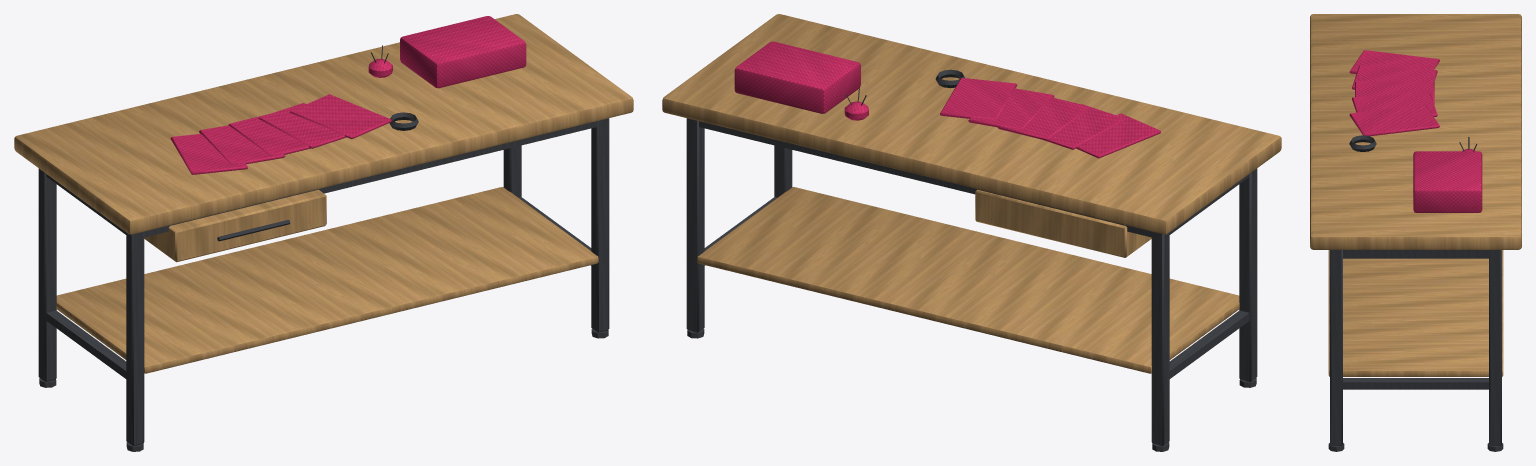
Rendered from bancada-20.glb.
The picture shows the model from 3 angles, left to right: view 1: azimuth 30°, elevation 25°; view 2: azimuth 150°, elevation 25°; view 3: azimuth 270°, elevation 25°; orthographic projection. The views are drawn at different scales.
Visible parts, largest first — view 1: tampo, prateleira, caixa-de-amostras, gaveta, pe, pe.002, pe.001, amostra.004, longarina, amostra, amostra.003, amostra.001 (+3 smaller); view 2: tampo, prateleira, caixa-de-amostras, gaveta, pe.001, pe.003, pe, amostra.004, longarina.001, amostra, amostra.002, amostra.003 (+3 smaller); view 3: tampo, prateleira, caixa-de-amostras, pe.002, pe.003, amostra.004, apoio-prateleira.001, travessa-lado.001, amostra.003, amostra, amostra.001, amostra.002 (+1 smaller).
Boxes of the visible parts, x1,y1,x2,y2 form: tampo: (14,14,633,234); prateleira: (56,187,598,373); caixa-de-amostras: (400,16,526,88); gaveta: (144,189,326,262); pe: (126,231,144,446); pe.002: (591,118,609,332); pe.001: (38,168,56,381); amostra.004: (289,94,391,139); longarina: (144,121,596,237); amostra: (170,134,247,174); amostra.003: (258,103,346,148); amostra.001: (199,125,285,164); tampo: (662,14,1281,234); prateleira: (697,187,1239,373); caixa-de-amostras: (734,41,860,113); gaveta: (975,189,1151,257); pe.001: (1151,231,1169,446); pe.003: (686,118,704,332); pe: (1239,168,1257,381); amostra.004: (940,78,1017,119); longarina.001: (699,121,1151,237); amostra: (1076,113,1160,158); amostra.002: (997,97,1090,140); amostra.003: (968,88,1054,129); tampo: (1310,14,1521,249); prateleira: (1328,250,1503,376); caixa-de-amostras: (1413,151,1482,212); pe.002: (1330,250,1342,445); pe.003: (1489,250,1501,445); amostra.004: (1349,104,1439,136); apoio-prateleira.001: (1343,378,1488,389); travessa-lado.001: (1343,250,1488,258); amostra.003: (1352,92,1437,116); amostra: (1349,50,1439,74); amostra.001: (1352,65,1437,89); amostra.002: (1355,81,1434,104).
Bounding box in the file's own units: 2 × 1.02 × 0.8.
Materials: 3 (3 with a texture image).
